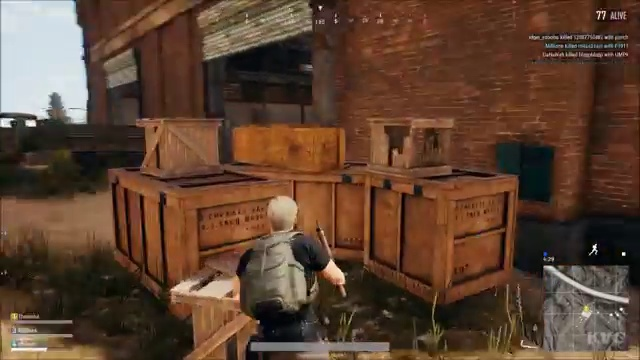Player: (214, 187, 366, 331)
